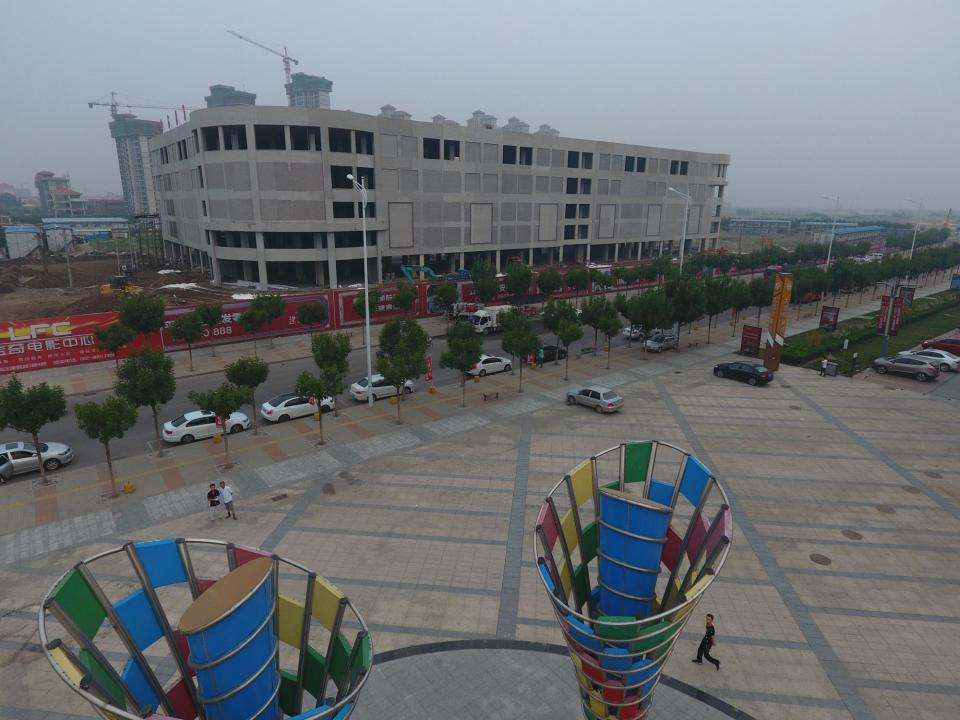car: (162, 406, 252, 447), (0, 441, 72, 480), (260, 390, 336, 421), (348, 372, 416, 404), (871, 356, 937, 382), (566, 386, 624, 414), (713, 360, 773, 387), (898, 349, 960, 370), (461, 353, 513, 378), (521, 342, 571, 366), (644, 332, 677, 354), (624, 322, 662, 341), (922, 337, 960, 354), (849, 255, 871, 262)
truck: (469, 304, 521, 336), (443, 302, 485, 321)
